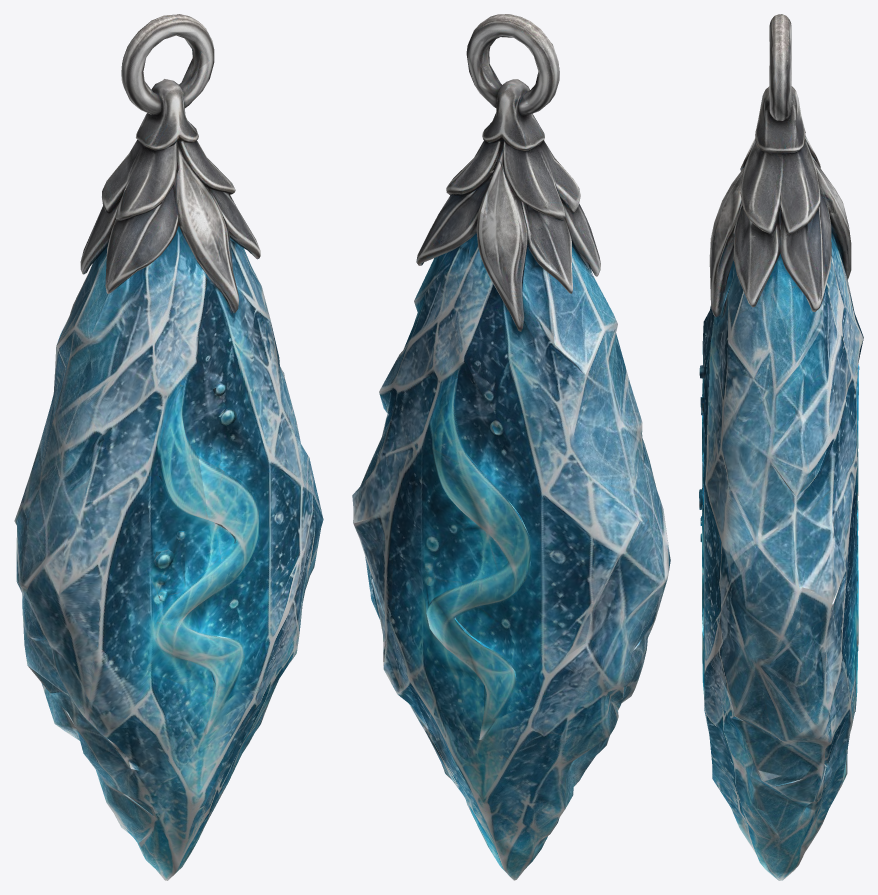
The model's file is set-ice-charm.glb.
The picture shows the model from 3 angles, left to right: view 1: azimuth 30°, elevation 25°; view 2: azimuth 150°, elevation 25°; view 3: azimuth 270°, elevation 25°; orthographic projection.
Visible parts, largest first — view 1: Motion_Control; view 2: Motion_Control; view 3: Motion_Control.
Part boxes in pixels (bbox=[...]): Motion_Control: bbox=[14, 14, 323, 880]; Motion_Control: bbox=[352, 14, 670, 880]; Motion_Control: bbox=[699, 14, 863, 880].
Size of the model in its own units: 0.7226 by 2 by 0.3462.
1 material, 1 textured.
